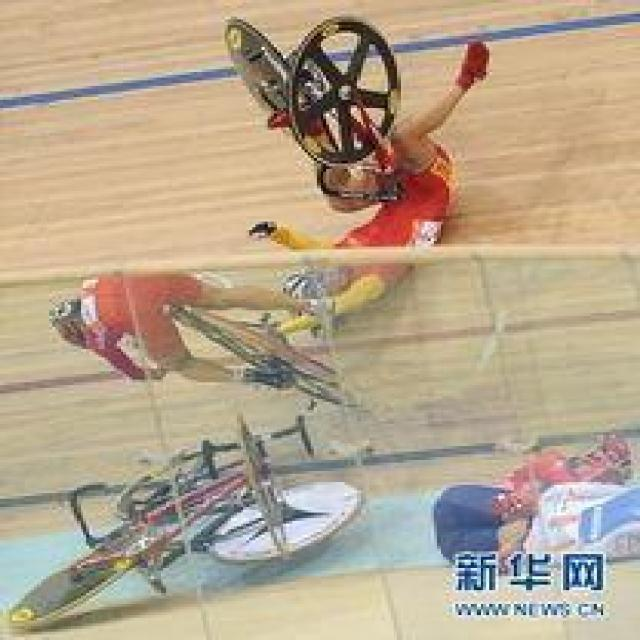fall: (250, 37, 488, 332), (50, 272, 300, 383), (435, 442, 626, 570)
